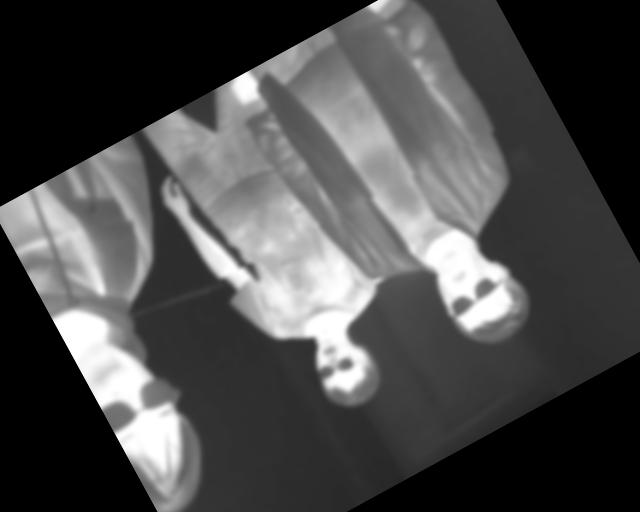face: (75, 325, 227, 512), (420, 228, 542, 359), (297, 318, 392, 419)
